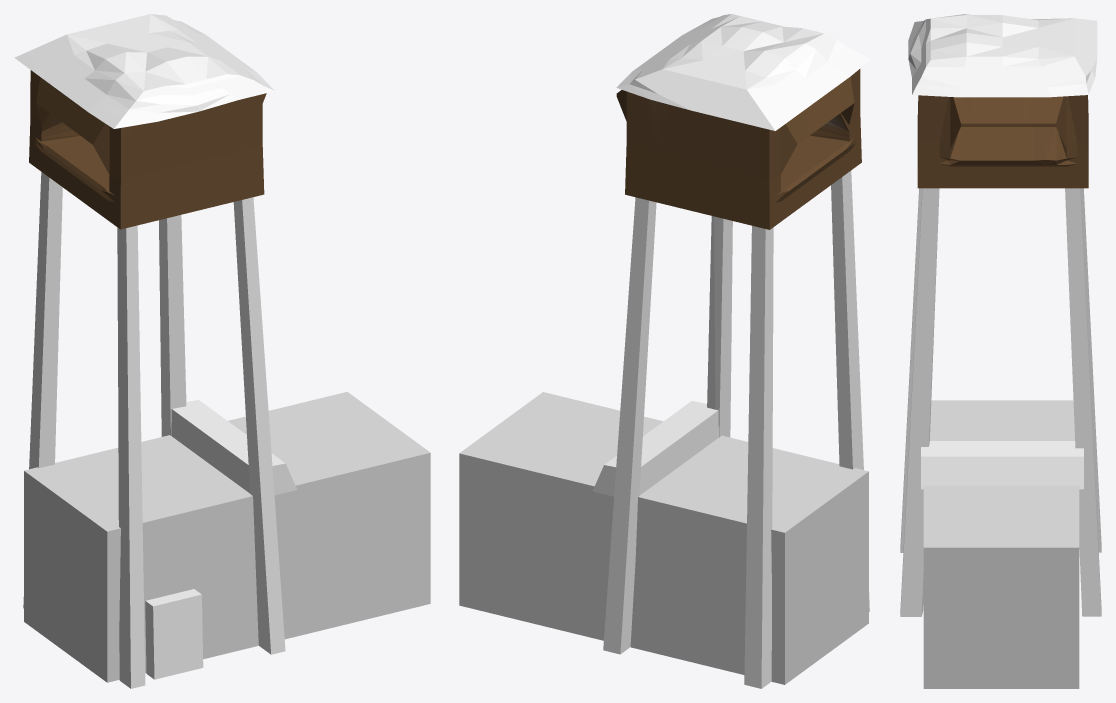
File: Wyshka.dae
3 views of the same model, side by side, from view 1: azimuth 30°, elevation 25°; view 2: azimuth 150°, elevation 25°; view 3: azimuth 270°, elevation 25° (orthographic). The views are drawn at different scales.
Visible parts, largest first — view 1: Cube, Куб.002, Куб.001, Куб, Куб.004, Куб.003; view 2: Cube, Куб.002, Куб.001, Куб, Куб.004; view 3: Cube, Куб.001, Куб.002, Куб.004, Куб.
Boxes of the visible parts, x1,y1,x2,y2 form: Cube: (24,391,430,682); Куб.002: (29,70,266,229); Куб.001: (159,197,297,654); Куб: (23,172,145,688); Куб.004: (14,14,274,128); Куб.003: (145,589,203,679); Cube: (459,392,868,684); Куб.002: (616,69,861,229); Куб.001: (592,197,732,654); Куб: (744,170,869,688); Куб.004: (616,14,871,130); Cube: (923,400,1079,688); Куб.001: (900,188,1101,616); Куб.002: (917,95,1088,188); Куб.004: (908,14,1097,97); Куб: (900,188,1101,552).
Bounding box in the file's own units: 5.32 × 3.06 × 9.18.
